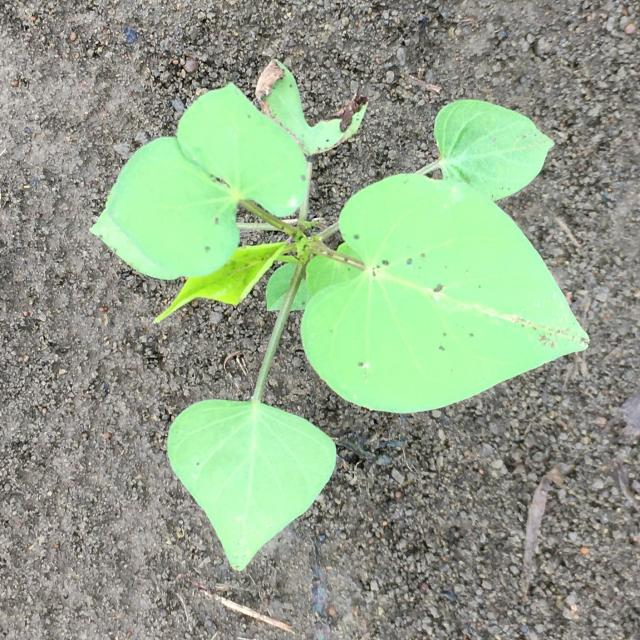MorningGlory: (89, 59, 591, 572)
